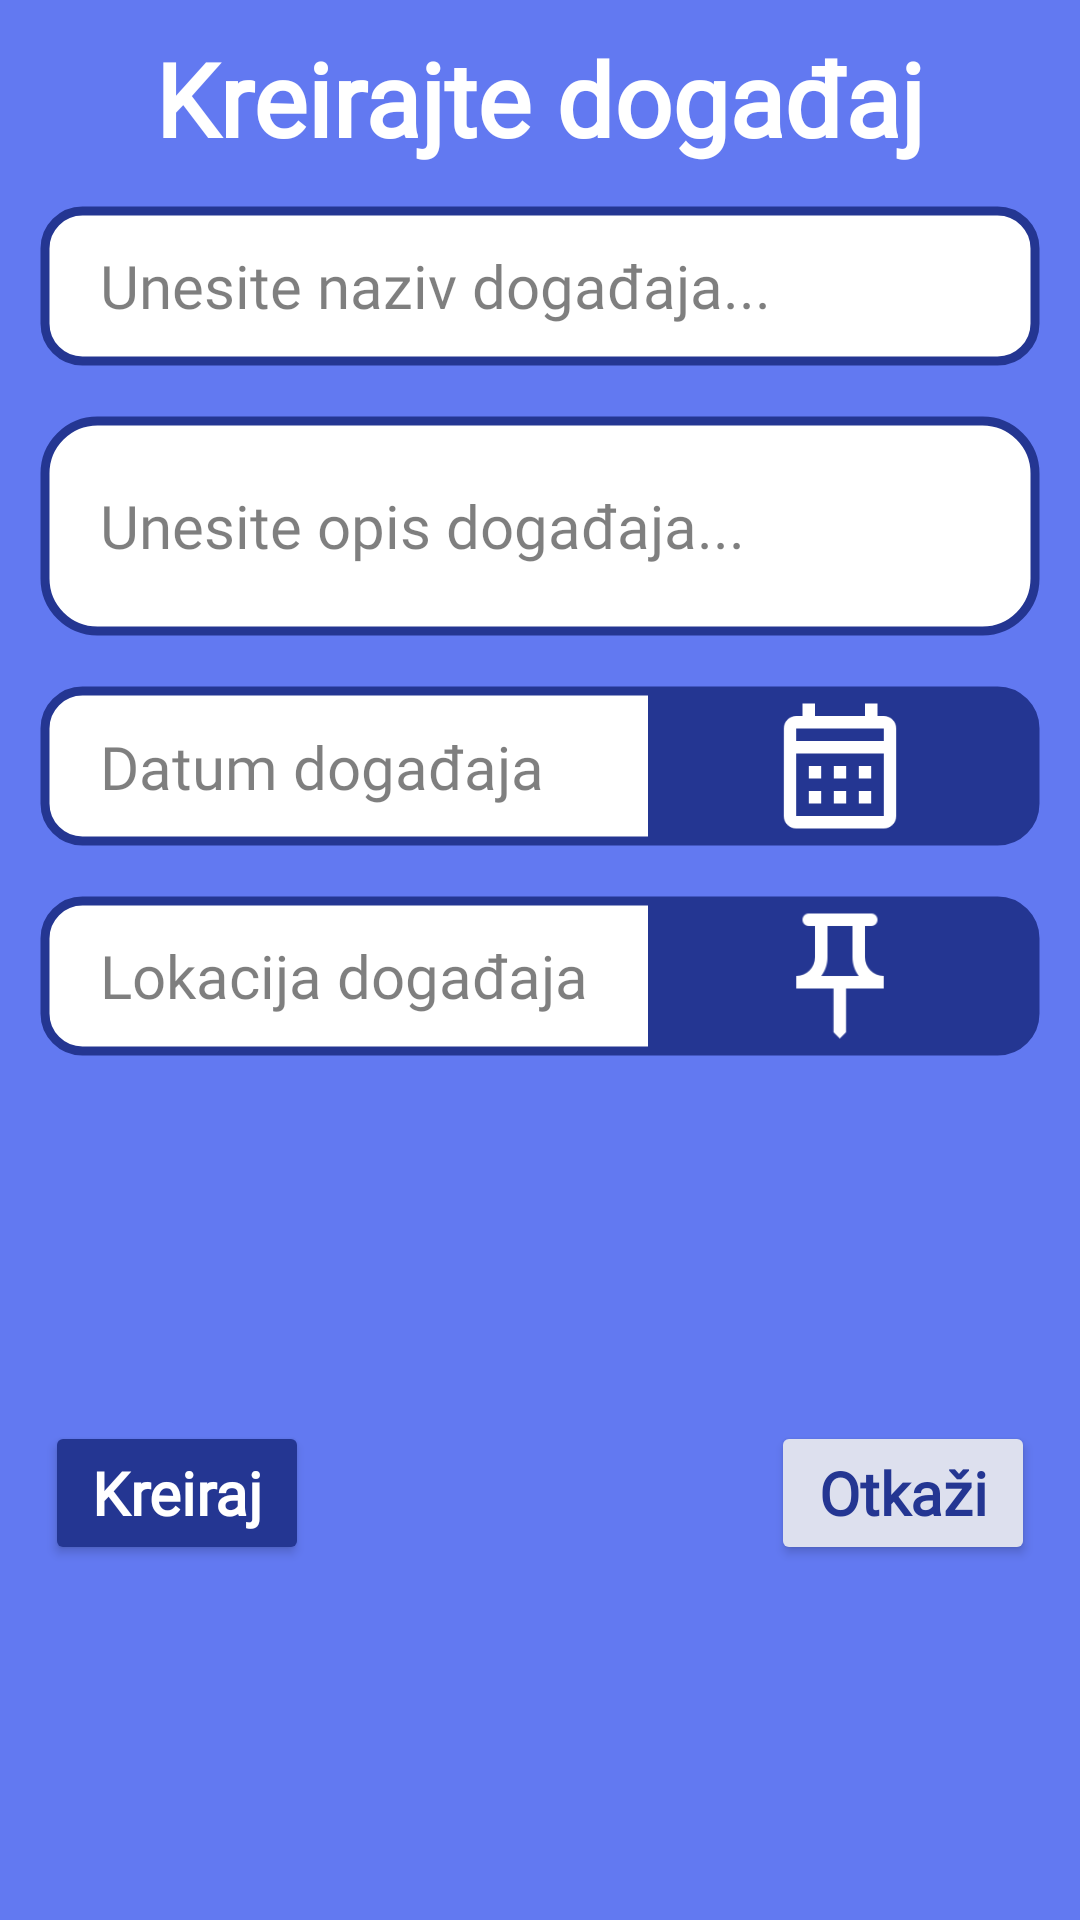

Icon bounding boxes for this 1080px×1920px phone screenshot, format [x1=x1, y1=y1, x2=x2, y2=y2]:
calendar month: [x1=783, y1=703, x2=897, y2=829]
push pin: [x1=796, y1=913, x2=884, y2=1039]
